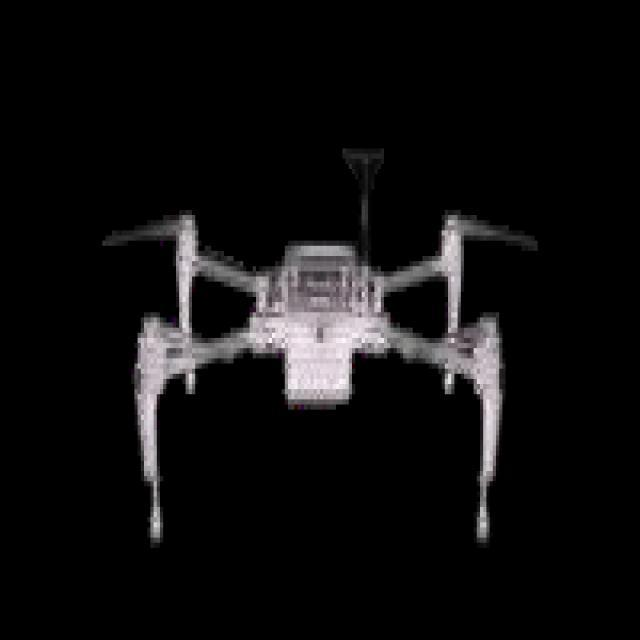drone: (100, 140, 537, 560)
